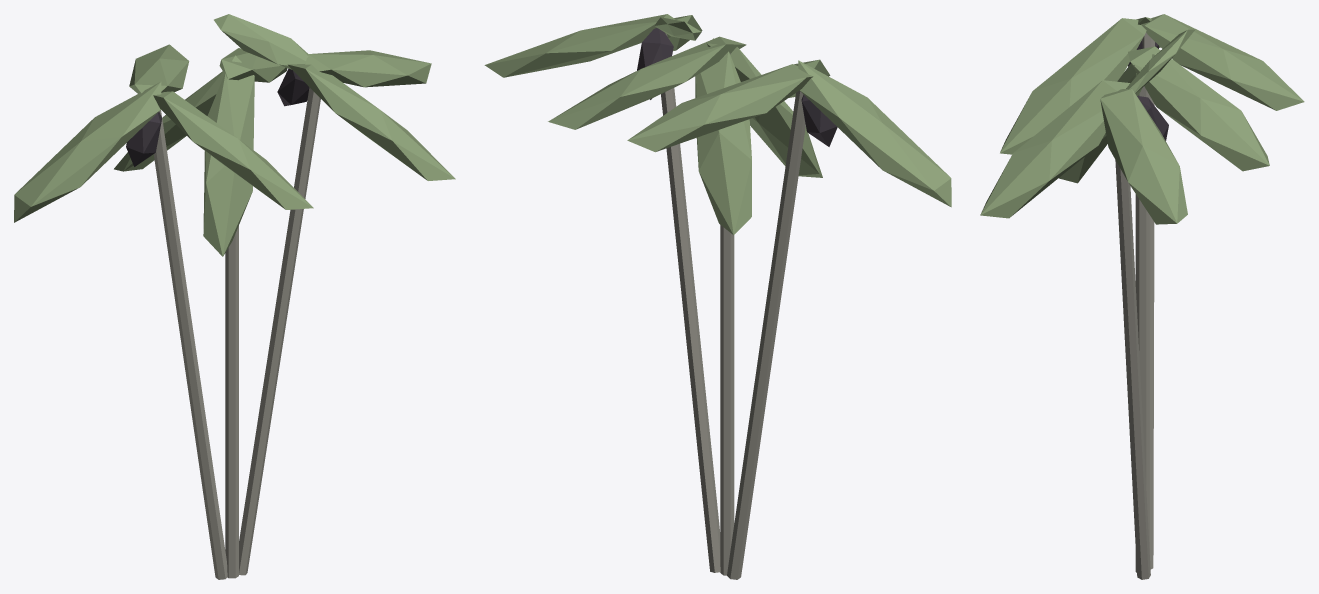
File: アサイヤシ.fbx
3 views of the same model, side by side, from view 1: azimuth 30°, elevation 25°; view 2: azimuth 150°, elevation 25°; view 3: azimuth 270°, elevation 25° (orthographic). The views are drawn at different scales.
Parts seen in each view (by area): view 1: 円柱.003, ICO球, 円柱, ICO球.003, ICO球.002, ICO球.007, 円柱.002, ICO球.006, ICO球.008, ICO球.001, ICO球.004, ICO球.005 (+2 smaller); view 2: 円柱, ICO球, 円柱.003, ICO球.001, ICO球.004, ICO球.005, 円柱.002, ICO球.006, ICO球.003, ICO球.010, ICO球.009, ICO球.008; view 3: ICO球.007, ICO球.006, ICO球.005, ICO球.002, 円柱.003, ICO球.001, 円柱.002, 円柱, ICO球.008, ICO球.003, ICO球.010.
Part boxes in pixels (x1=…): 円柱.003: x1=239, y1=87, x2=320, y2=575; ICO球: x1=14, y1=82, x2=161, y2=222; 円柱: x1=153, y1=110, x2=227, y2=579; ICO球.003: x1=203, y1=55, x2=254, y2=256; ICO球.002: x1=153, y1=91, x2=313, y2=209; ICO球.007: x1=288, y1=64, x2=455, y2=180; 円柱.002: x1=225, y1=226, x2=238, y2=578; ICO球.006: x1=305, y1=50, x2=431, y2=87; ICO球.008: x1=214, y1=14, x2=308, y2=69; ICO球.001: x1=129, y1=44, x2=189, y2=93; ICO球.004: x1=114, y1=69, x2=254, y2=171; ICO球.005: x1=219, y1=48, x2=287, y2=82; 円柱: x1=727, y1=90, x2=805, y2=579; ICO球: x1=798, y1=60, x2=951, y2=207; 円柱.003: x1=661, y1=33, x2=720, y2=572; ICO球.001: x1=627, y1=64, x2=813, y2=152; ICO球.004: x1=695, y1=38, x2=751, y2=235; ICO球.005: x1=548, y1=36, x2=746, y2=129; 円柱.002: x1=720, y1=53, x2=734, y2=575; ICO球.006: x1=484, y1=14, x2=675, y2=77; ICO球.003: x1=707, y1=43, x2=822, y2=177; ICO球.010: x1=637, y1=28, x2=673, y2=99; ICO球.009: x1=801, y1=94, x2=837, y2=146; ICO球.008: x1=655, y1=17, x2=701, y2=40; ICO球.007: x1=980, y1=80, x2=1130, y2=218; ICO球.006: x1=1100, y1=88, x2=1187, y2=224; ICO球.005: x1=1128, y1=46, x2=1269, y2=171; ICO球.002: x1=1000, y1=18, x2=1146, y2=154; 円柱.003: x1=1115, y1=160, x2=1150, y2=579; ICO球.001: x1=1141, y1=14, x2=1304, y2=110; 円柱.002: x1=1135, y1=86, x2=1149, y2=572; 円柱: x1=1142, y1=32, x2=1154, y2=569; ICO球.008: x1=1126, y1=29, x2=1194, y2=93; ICO球.003: x1=1059, y1=54, x2=1155, y2=183; ICO球.010: x1=1137, y1=96, x2=1168, y2=140.
Size of the model in its own units: 670 by 802 by 427.
